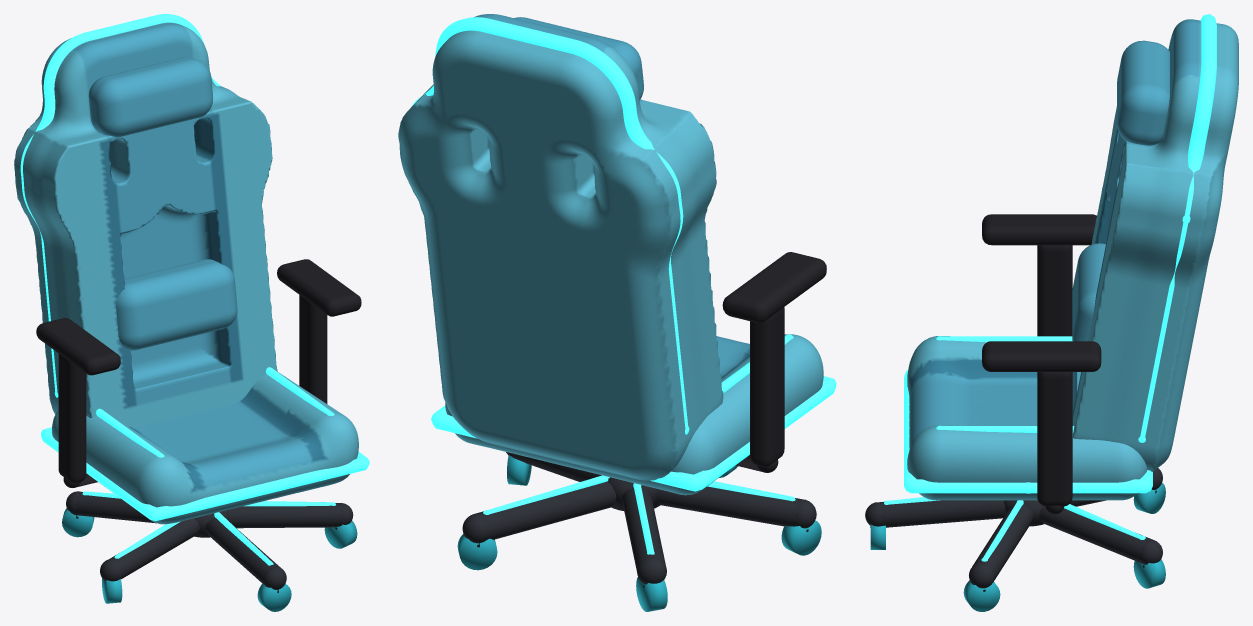
The model's file is cadeira_gamer_ciano.glb.
3 renders of one model, left to right at view 1: azimuth 30°, elevation 25°; view 2: azimuth 150°, elevation 25°; view 3: azimuth 270°, elevation 25°, orthographic. The views are drawn at different scales.
Parts seen in each view (by area): view 1: estofado, base, neon; view 2: estofado, base, neon; view 3: estofado, base, neon.
Boxes of the visible parts, x1,y1,x2,y2 form: estofado: (14,22,358,524); base: (36,259,361,611); neon: (20,14,369,565); estofado: (398,14,823,495); base: (457,252,826,611); neon: (411,17,836,554); estofado: (907,19,1238,500); base: (865,214,1165,611); neon: (884,14,1216,561).
Bounding box in the file's own units: 0.78 × 1.28 × 0.8468.
